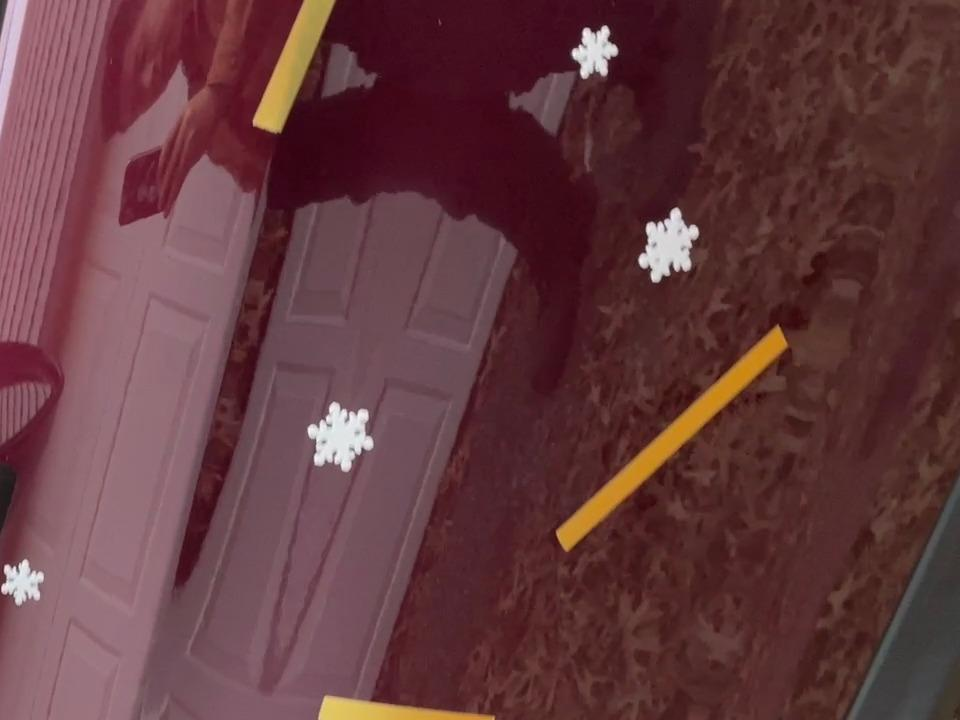dent: (301, 394, 383, 491), (631, 199, 705, 287), (561, 19, 627, 85), (0, 553, 48, 613)
scratch: (546, 306, 797, 572), (246, 0, 348, 148), (306, 681, 506, 720)
